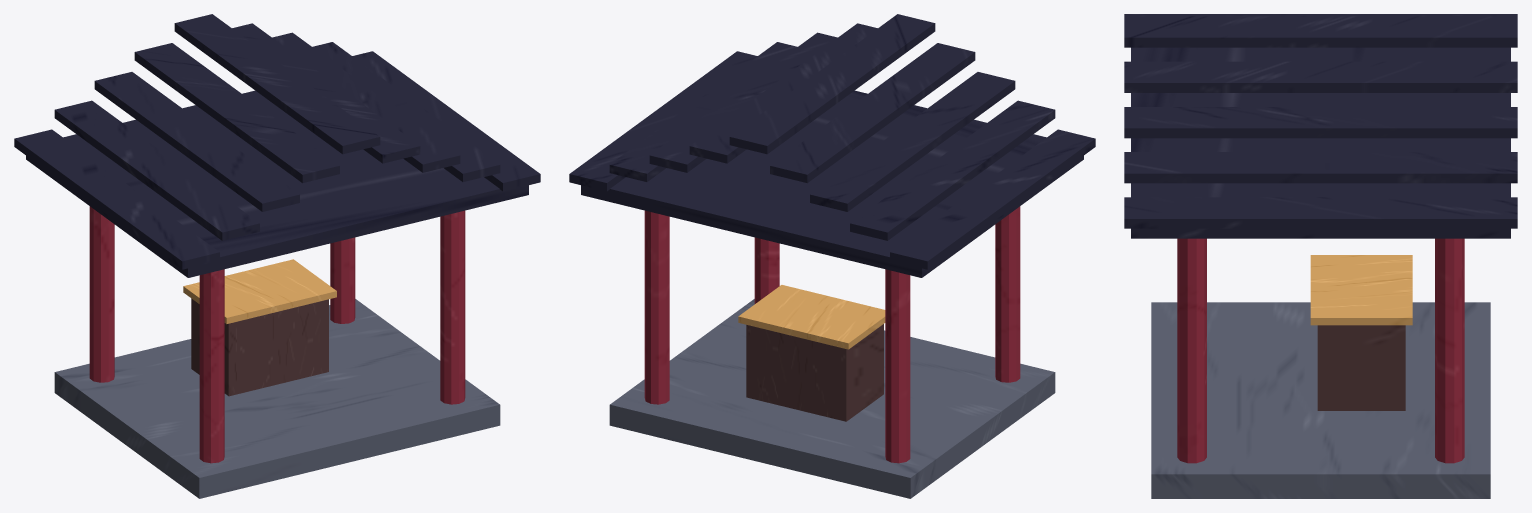
The model's file is dojo_shrine_pavilion.obj.
3 renders of one model, left to right at view 1: azimuth 30°, elevation 25°; view 2: azimuth 150°, elevation 25°; view 3: azimuth 270°, elevation 25°, orthographic. The views are drawn at different scales.
Visible parts, largest first — view 1: geometry_0, geometry_5, geometry_15, geometry_10, geometry_6, geometry_9, geometry_7, geometry_8, geometry_4, geometry_2, geometry_16, geometry_1 (+5 smaller); view 2: geometry_0, geometry_5, geometry_15, geometry_10, geometry_6, geometry_9, geometry_7, geometry_8, geometry_16, geometry_3, geometry_1, geometry_2 (+5 smaller); view 3: geometry_0, geometry_5, geometry_10, geometry_11, geometry_12, geometry_13, geometry_14, geometry_15, geometry_16, geometry_3, geometry_4, geometry_9.
Part boxes in pixels (x1,y1,x2,y2): geometry_0: (54,299,500,498); geometry_5: (26,90,528,277); geometry_15: (191,298,328,396); geometry_10: (174,14,380,154); geometry_6: (14,129,219,269); geometry_9: (134,43,339,183); geometry_7: (54,100,259,240); geometry_8: (94,72,299,211); geometry_4: (440,210,465,404); geometry_2: (199,269,224,463); geometry_16: (183,259,336,323); geometry_1: (89,206,114,382); geometry_0: (609,299,1055,498); geometry_5: (581,90,1083,277); geometry_15: (746,324,883,421); geometry_10: (729,14,935,154); geometry_6: (890,129,1095,269); geometry_9: (770,43,975,183); geometry_7: (850,100,1055,240); geometry_8: (810,72,1015,211); geometry_16: (738,285,885,349); geometry_3: (644,210,669,404); geometry_1: (885,269,910,463); geometry_2: (995,206,1020,382); geometry_0: (1151,302,1490,498); geometry_5: (1131,47,1510,238); geometry_10: (1124,16,1517,47); geometry_11: (1124,61,1517,92); geometry_12: (1124,107,1517,138); geometry_13: (1124,152,1517,183); geometry_14: (1124,197,1517,228); geometry_15: (1317,325,1405,410); geometry_16: (1310,255,1412,325); geometry_3: (1435,238,1464,463); geometry_4: (1177,238,1206,463); geometry_9: (1124,15,1517,16).
Bounding box in the file's own units: 7.15 × 6.28 × 5.8.
5 materials, 5 textured.
